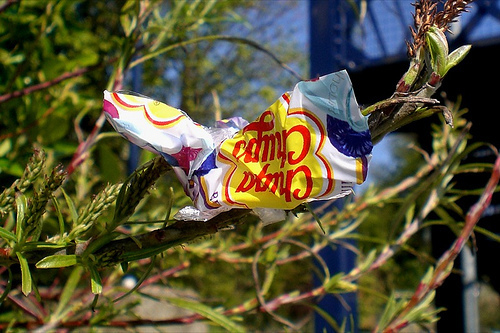litter: (101, 68, 374, 222)
